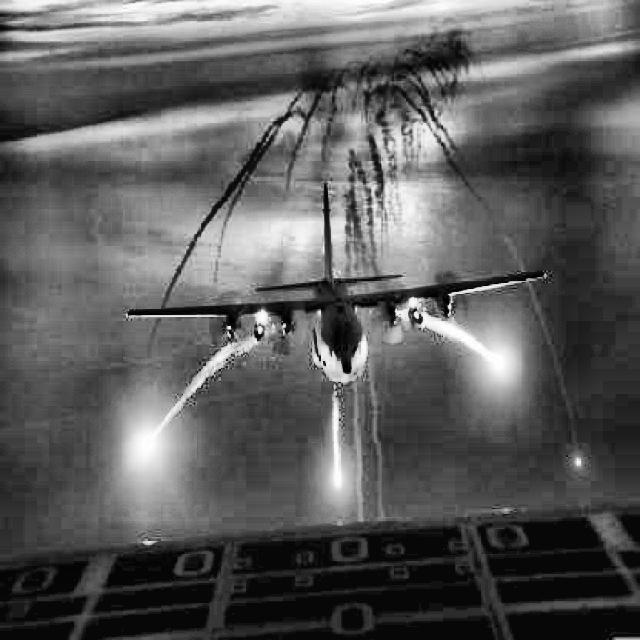C130: (125, 183, 547, 383)
